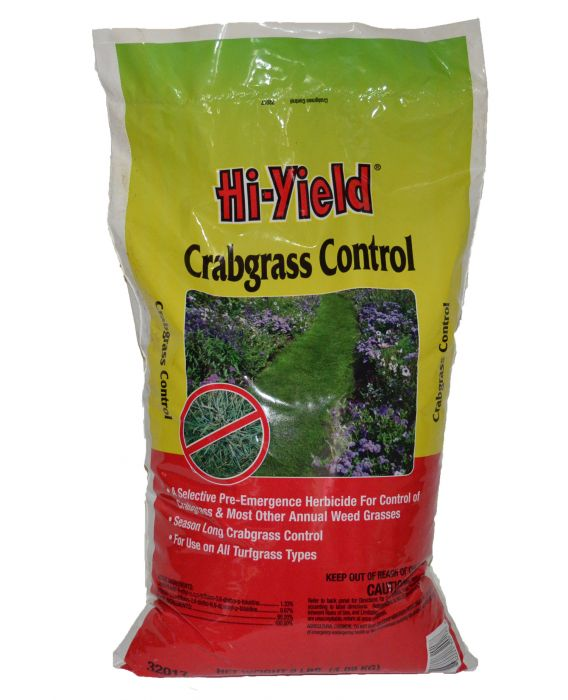crabgrass: (195, 397, 267, 465)
